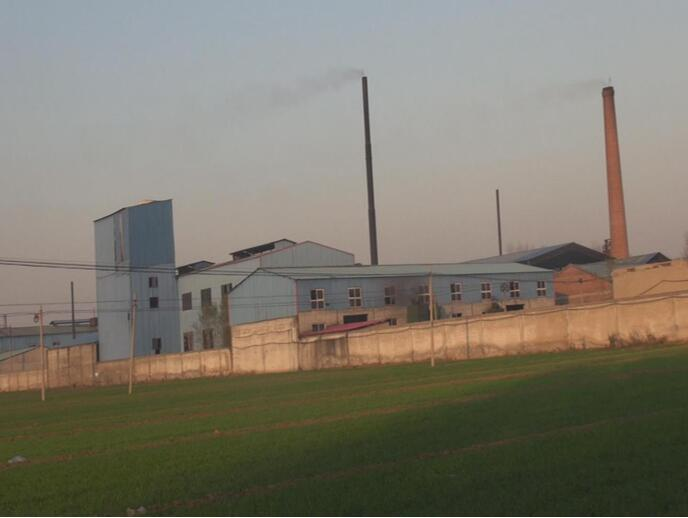dust: (289, 56, 372, 100)
